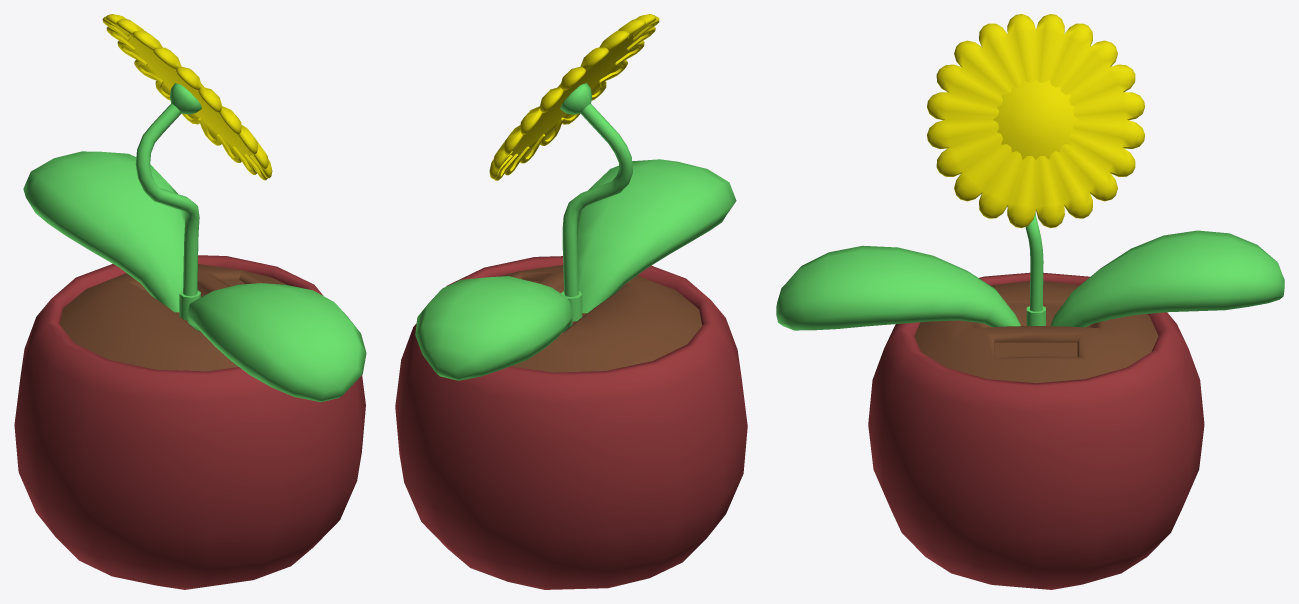
Rendered from SunFlower.fbx.
3 renders of one model, left to right at view 1: azimuth 30°, elevation 25°; view 2: azimuth 150°, elevation 25°; view 3: azimuth 270°, elevation 25°, orthographic. The views are drawn at different scales.
Parts seen in each view (by area): view 1: Sunflower; view 2: Sunflower; view 3: Sunflower.
Boxes of the visible parts, box(x1,y1,x2,y2) form: Sunflower: box(14, 14, 366, 589); Sunflower: box(395, 14, 747, 589); Sunflower: box(776, 14, 1284, 589).
Bounding box in the file's own units: 9.83 × 11.13 × 6.5.
